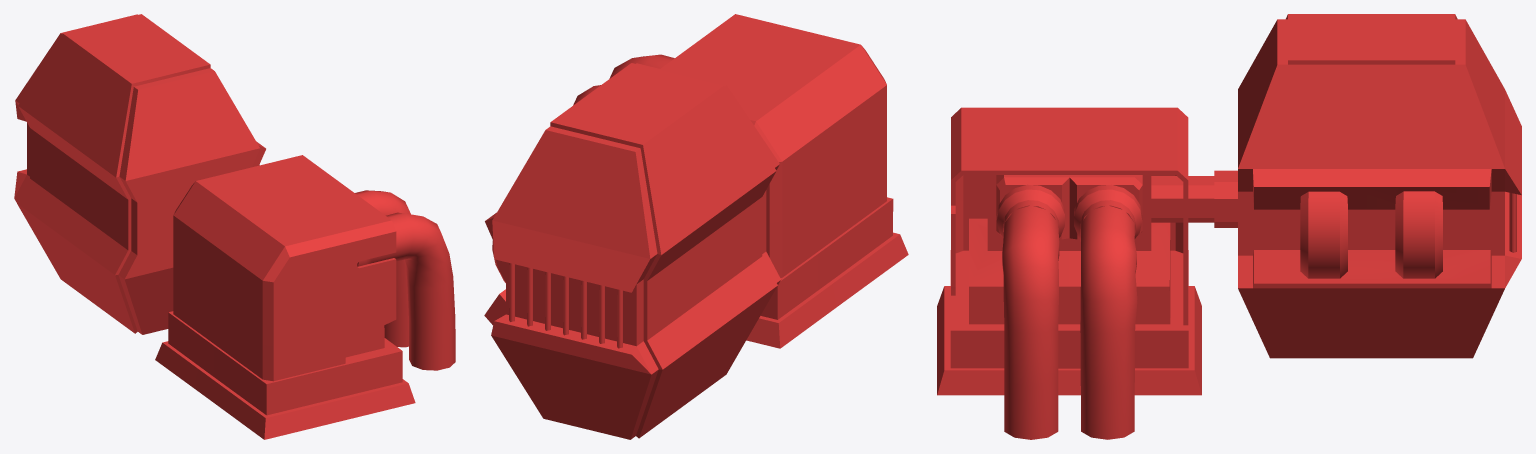
File: curs_bin_lp_fix.fbx
3 renders of one model, left to right at view 1: azimuth 30°, elevation 25°; view 2: azimuth 150°, elevation 25°; view 3: azimuth 270°, elevation 25°, orthographic. The views are drawn at different scales.
Visible parts, largest first — view 1: bin_low, shield_low, generator_low, pipes_low; view 2: bin_low, shield_low, generator_low, tubes_low, pipes_low; view 3: bin_low, generator_low, pipes_low, shield_low, connector_low.
Boxes of the visible parts, <box> form: bin_low: <box>14,14,265,334</box>; shield_low: <box>173,155,396,381</box>; generator_low: <box>155,256,415,439</box>; pipes_low: <box>355,190,455,370</box>; bin_low: <box>484,63,780,439</box>; shield_low: <box>660,14,886,277</box>; generator_low: <box>746,197,908,348</box>; tubes_low: <box>509,263,622,348</box>; pipes_low: <box>573,54,674,105</box>; bin_low: <box>1238,14,1521,358</box>; generator_low: <box>937,175,1201,395</box>; pipes_low: <box>1002,203,1137,439</box>; shield_low: <box>951,107,1188,325</box>; connector_low: <box>1151,170,1237,227</box>.
Size of the model in its own units: 101 by 97.46 by 172.
